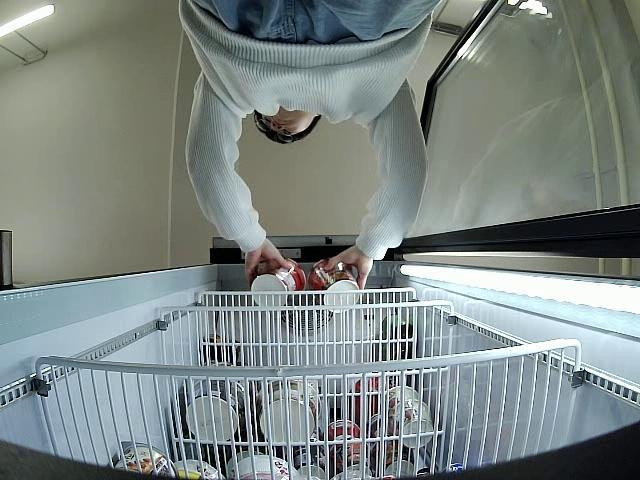01_ShinRamen_L: (251, 256, 306, 312), (306, 257, 359, 314)
